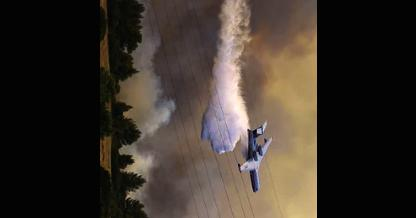B52: (238, 117, 272, 192)
